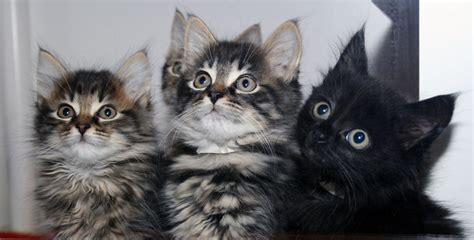cat: (294, 28, 464, 240), (167, 14, 302, 240), (34, 45, 162, 240)
